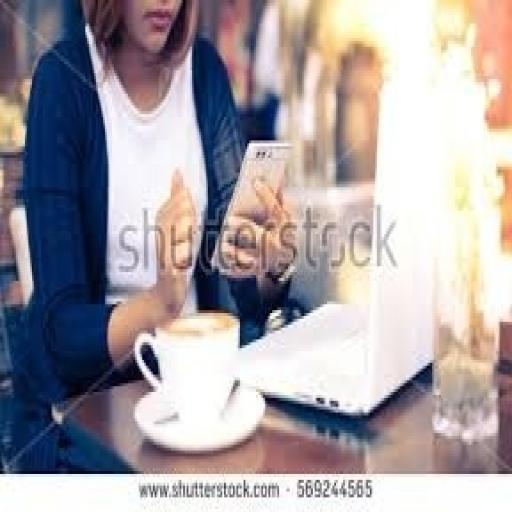texting: (12, 0, 298, 413)
